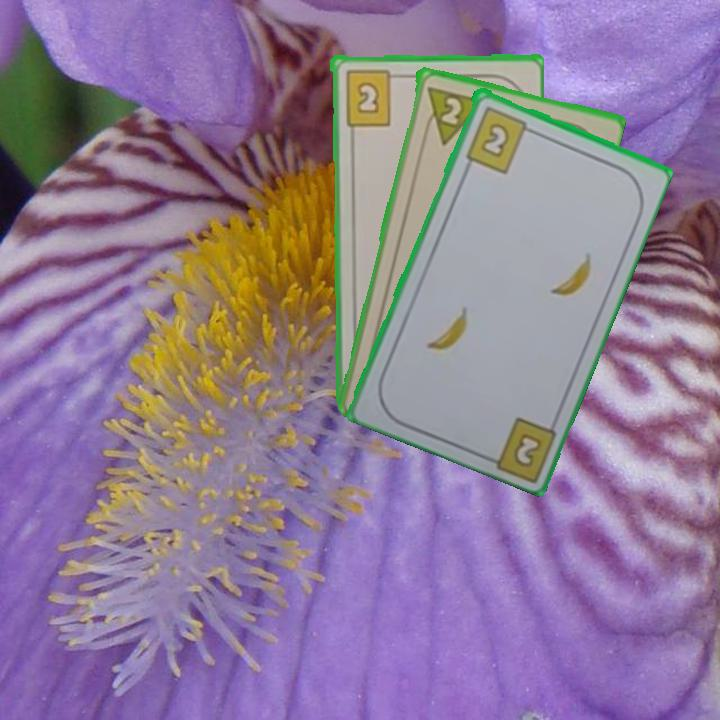2b: (462, 102, 538, 175), (342, 66, 403, 127), (512, 432, 542, 467)
2p: (418, 82, 485, 147)
